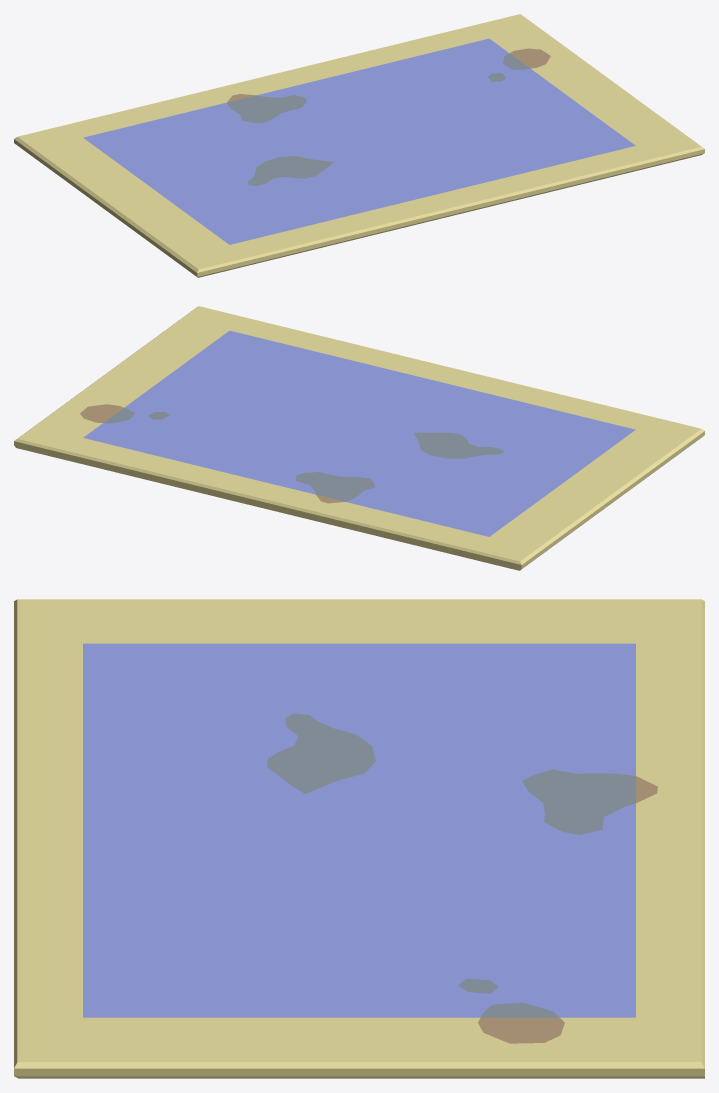
The model's file is Rug.fbx.
3 renders of one model, top to bottom at view 1: azimuth 30°, elevation 25°; view 2: azimuth 150°, elevation 25°; view 3: azimuth 270°, elevation 25°, orthographic. The views are drawn at different scales.
Visible parts, largest first — view 1: Cube; view 2: Cube; view 3: Cube.
Part boxes in pixels (box(x1,y1,x2,y2)): Cube: box(14, 14, 704, 277); Cube: box(14, 306, 704, 570); Cube: box(14, 599, 704, 1078).
Bounding box in the file's own units: 3127 × 50.82 × 1954.
